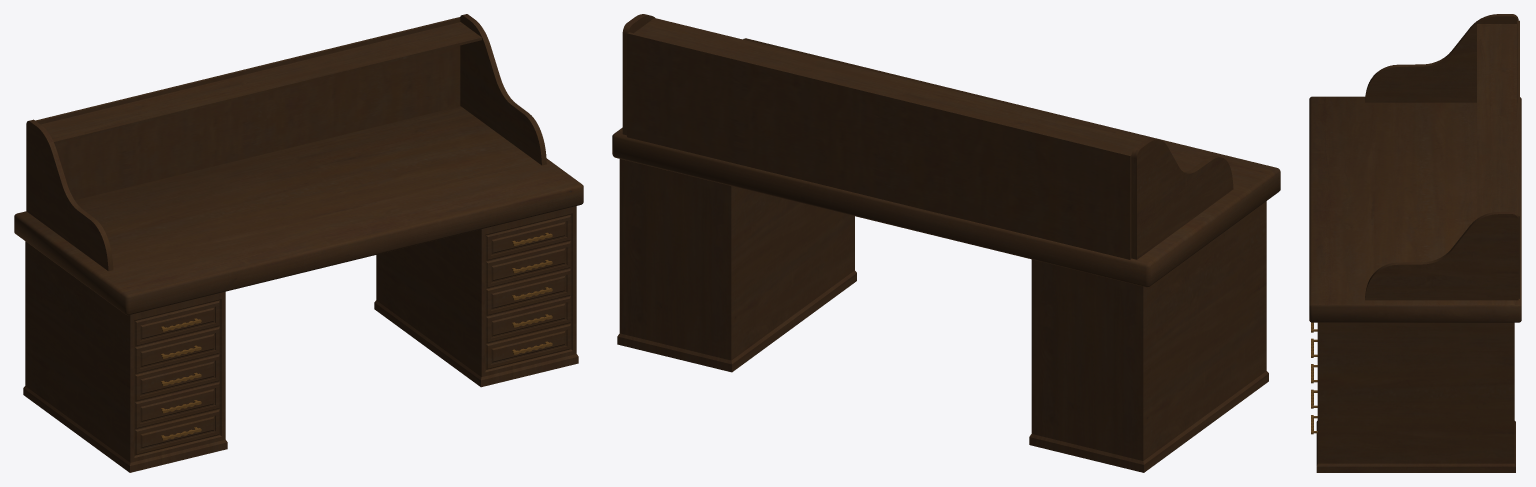
Rendered from Desk.fbx.
The picture shows the model from 3 angles, left to right: view 1: azimuth 30°, elevation 25°; view 2: azimuth 150°, elevation 25°; view 3: azimuth 270°, elevation 25°; orthographic projection. The views are drawn at different scales.
Visible parts, largest first — view 1: Box002, Box030, Box026, Box026.001; view 2: Box030, Box026, Box026.001, Box002; view 3: Box002, Box026.001, Box030.
Boxes of the visible parts, x1,y1,x2,y2 form: Box002: (14,106,583,315); Box030: (26,14,546,271); Box026: (23,241,227,472); Box026.001: (374,206,578,387); Box030: (622,14,1233,259); Box026: (1029,201,1268,472); Box026.001: (617,159,856,372); Box002: (612,38,1280,287); Box002: (1309,96,1521,322); Box026.001: (1311,322,1515,472); Box030: (1365,14,1519,300).
Bounding box in the file's own units: 186 × 106 × 80.
